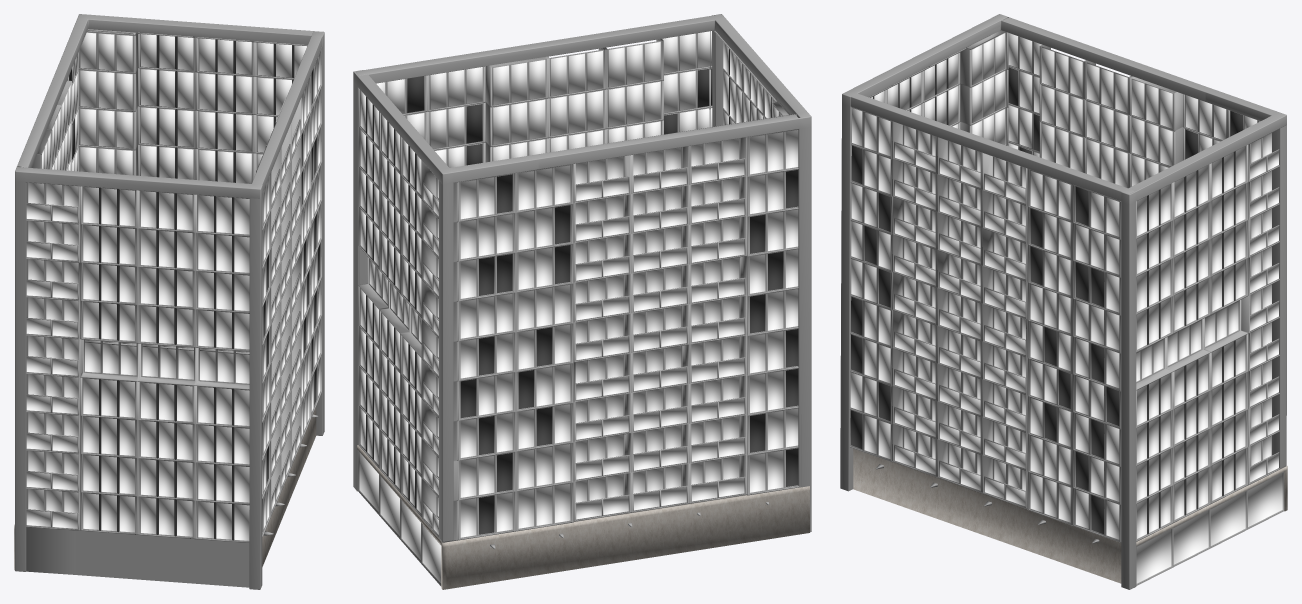
The model's file is city_17.gltf.
3 views of the same model, side by side, from view 1: azimuth 30°, elevation 25°; view 2: azimuth 150°, elevation 25°; view 3: azimuth 270°, elevation 25° (orthographic). The views are drawn at different scales.
Parts seen in each view (by area): view 1: city_17; view 2: city_17; view 3: city_17.
Part boxes in pixels (x1,y1,x2,y2): city_17: (14,14,324,589); city_17: (353,14,811,589); city_17: (840,14,1287,589).
Size of the model in its own units: 28.76 by 29.29 by 30.04.
5 materials, 1 textured.
